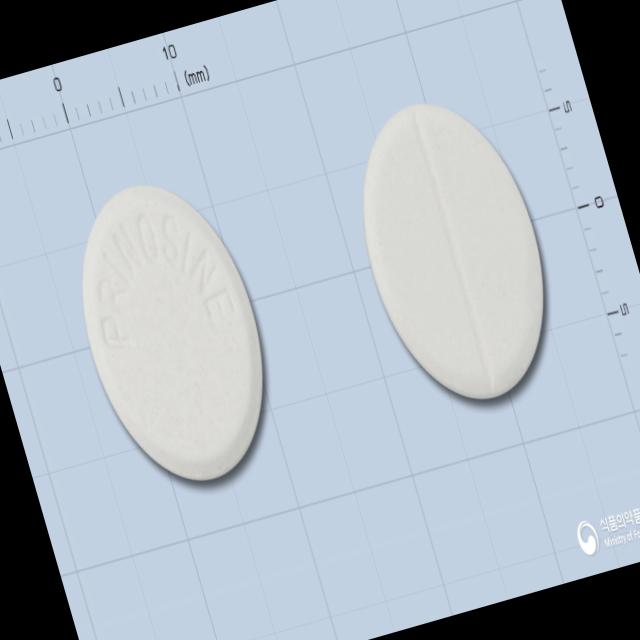Prinosine500mg: (48, 160, 297, 504)
